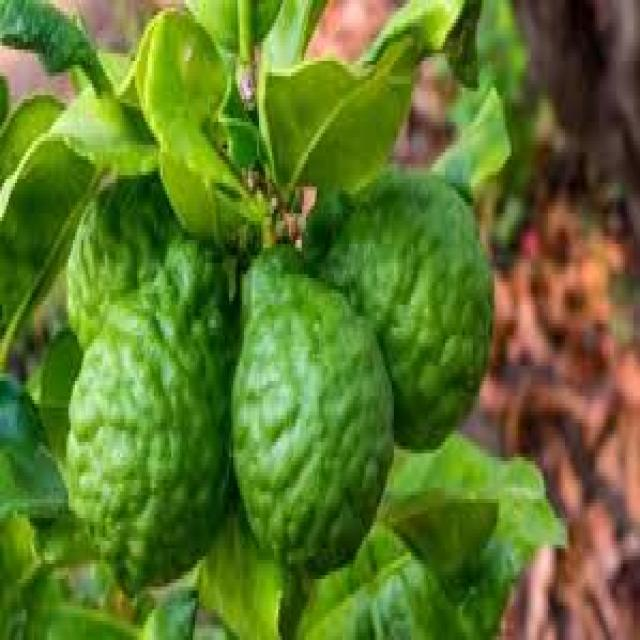Chuc: (62, 179, 236, 594), (229, 240, 394, 575), (302, 164, 494, 449)
